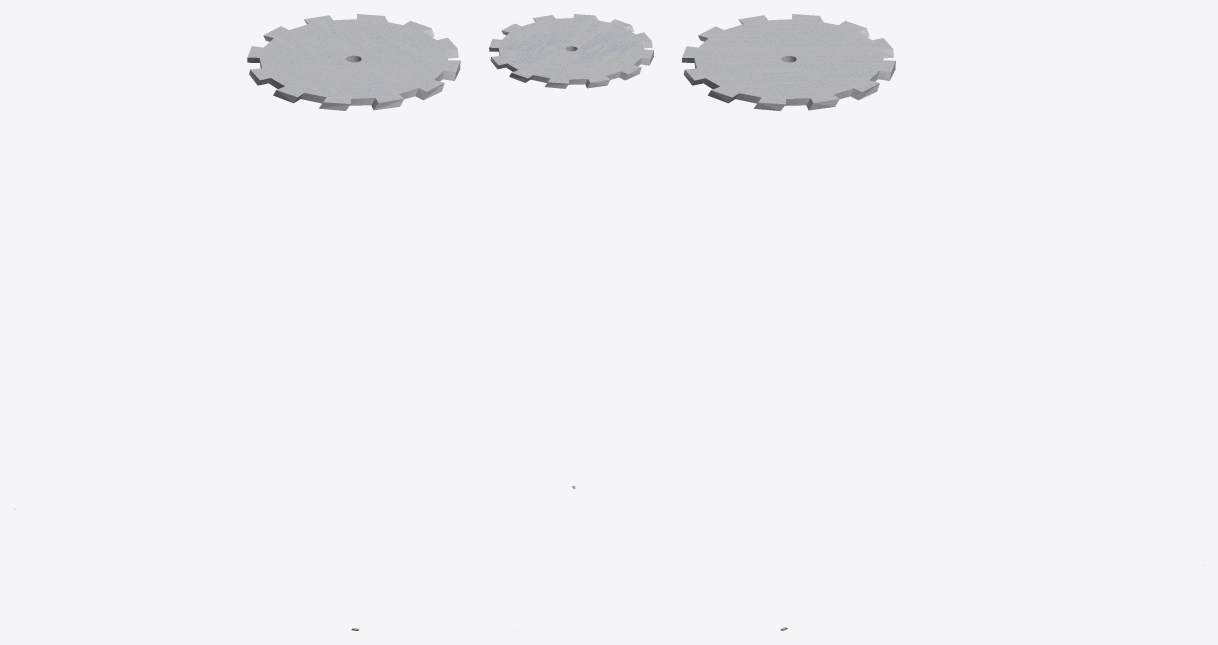
Rendered from SawmillFacility.dae.
3 views of the same model, side by side, from view 1: azimuth 30°, elevation 25°; view 2: azimuth 150°, elevation 25°; view 3: azimuth 270°, elevation 25° (orthographic). The views are drawn at different scales.
Parts seen in each view (by area): view 1: SketchUp; view 2: SketchUp; view 3: SketchUp.
Boxes of the visible parts, x1,y1,x2,y2 form: SketchUp: [247, 14, 460, 110]; SketchUp: [489, 14, 653, 88]; SketchUp: [682, 14, 895, 110].
Size of the model in its own units: 4131 by 8271 by 9982.
